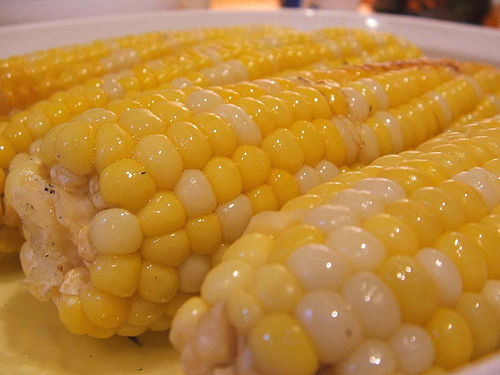corn: (2, 24, 499, 374)
